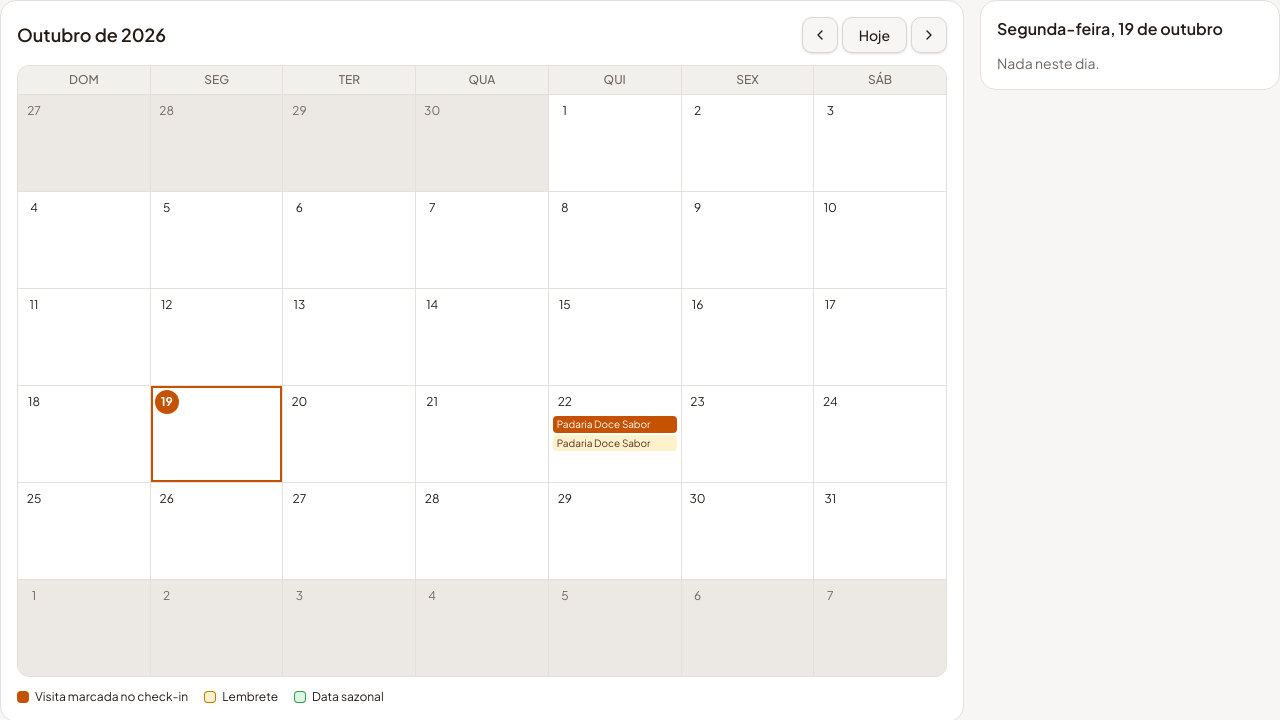
Calendario › visita e lembrete do mesmo cliente no mesmo dia aparecem os dois, sem chave repetida
Click the button with aria-label "quinta-feira, 22 de outubro, 2 itens" at (615, 434), box top-left (549, 386), bottom-right (680, 482)
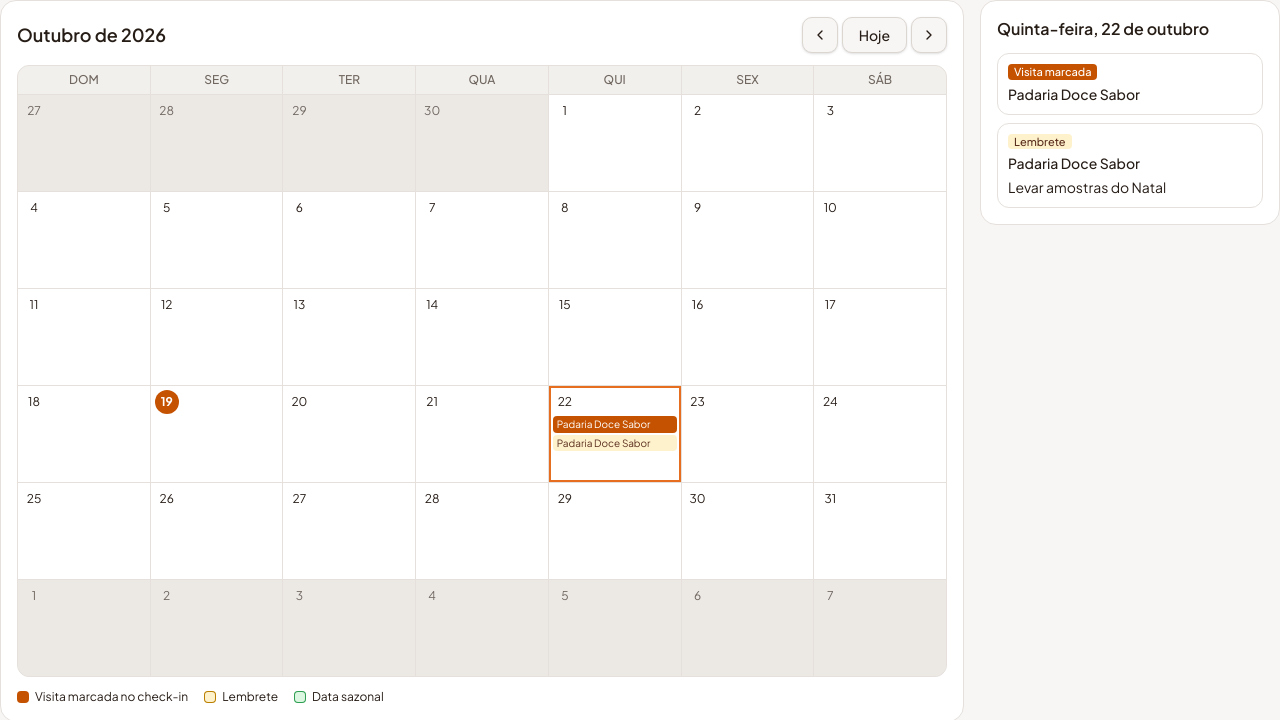
Expected: the number of links is 2, top-left (997, 53), bottom-right (1263, 115); top-left (997, 123), bottom-right (1263, 208)
Expected: the text "Visita marcada" is shown, top-left (1008, 64), bottom-right (1098, 80)
Expected: the text "Lembrete" is shown, top-left (1008, 134), bottom-right (1072, 149)
